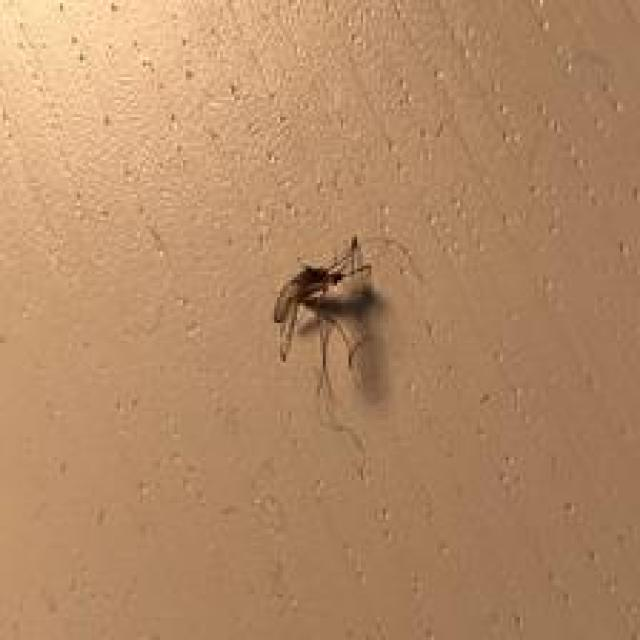Culex: (271, 233, 380, 404)
